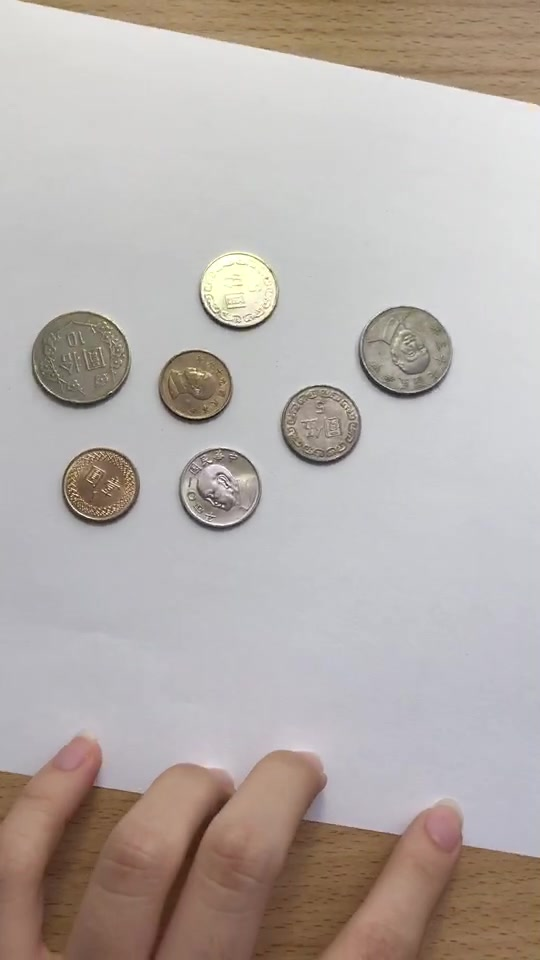1 dallar: (54, 445, 149, 528), (145, 341, 240, 424)
10 dallar: (30, 303, 132, 408), (355, 295, 457, 400)
5 dallar: (194, 245, 284, 339), (278, 377, 368, 471), (176, 437, 266, 531)
